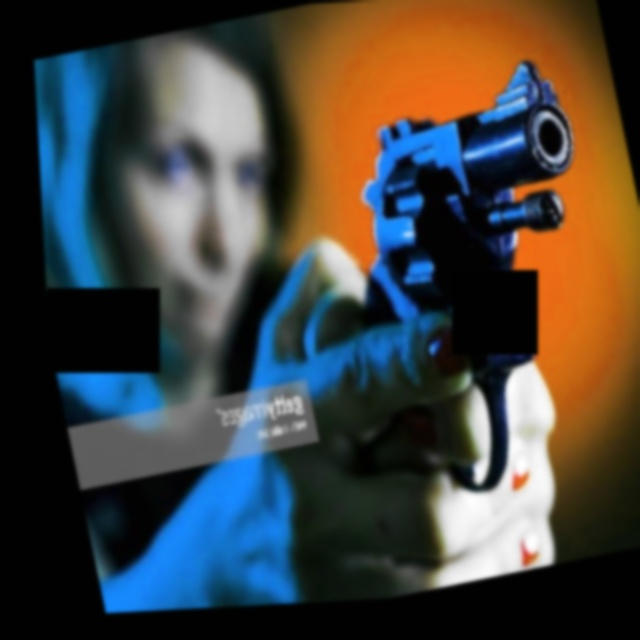gun: (331, 40, 640, 514)
